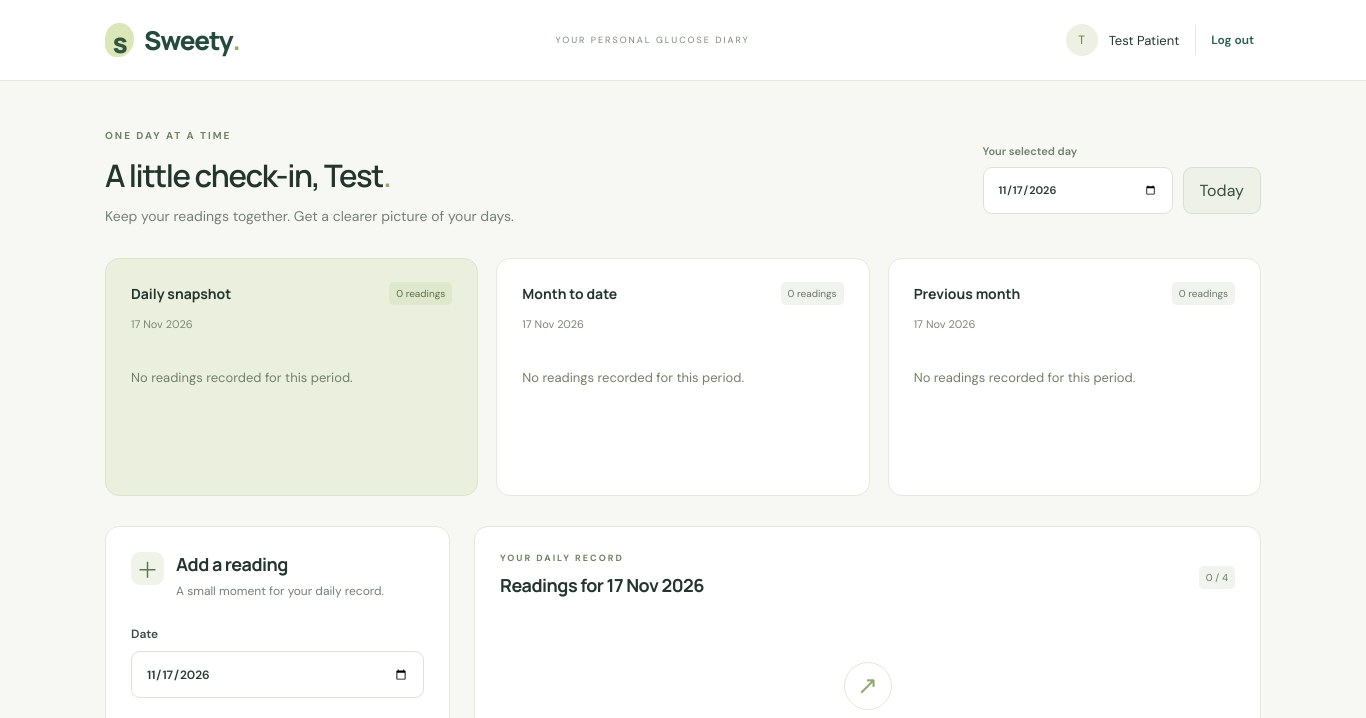
Test: report date and add-form date synchronize in both directions
Expected: the heading "A little check-in, Test." is shown, [105,154,390,196]
Expected: the text "Loading your readings…" is not shown
In the date field named "Selected report date": (1078, 190) [983,167,1173,214], type "2026-11-15"
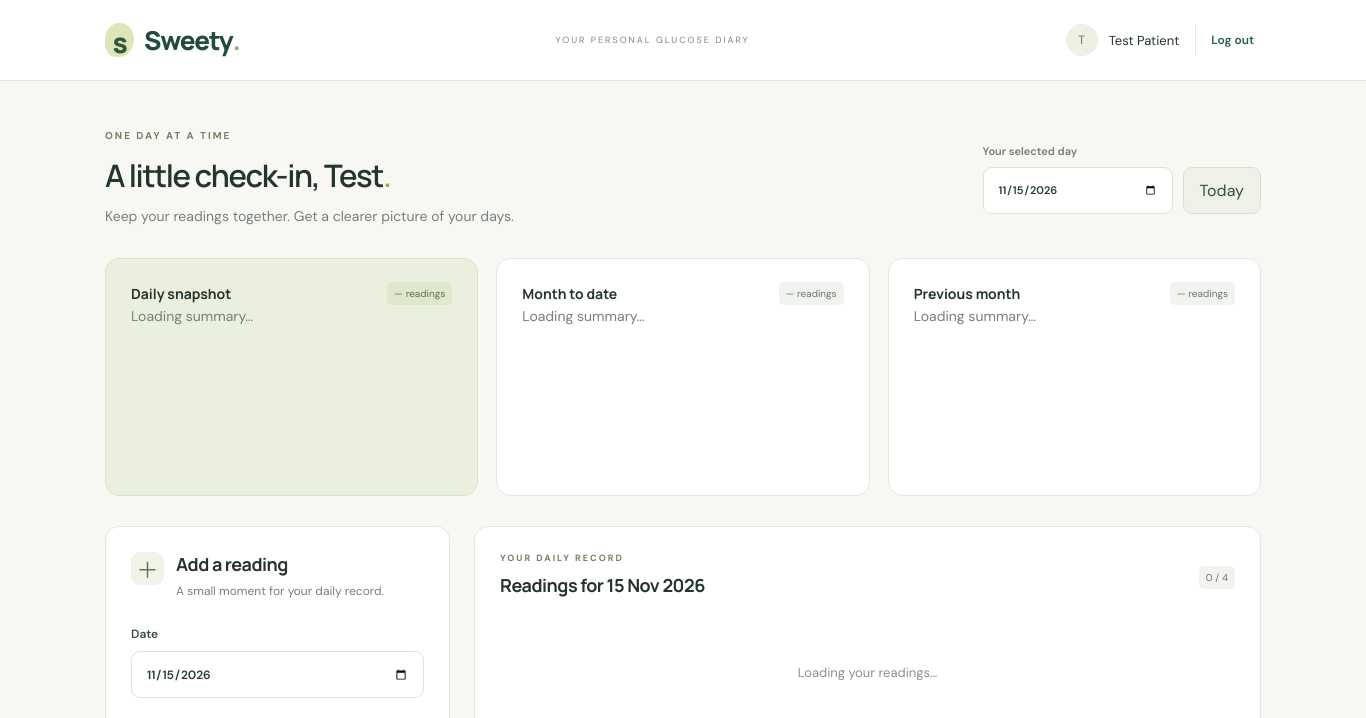
Result: the date field labelled "Date" holds "2026-11-15"
Result: the heading "Readings for 15 Nov 2026" is shown at [500,573,705,597]
In the date field labelled "Date": (278, 675) [131,651,424,698], type "2026-11-14"
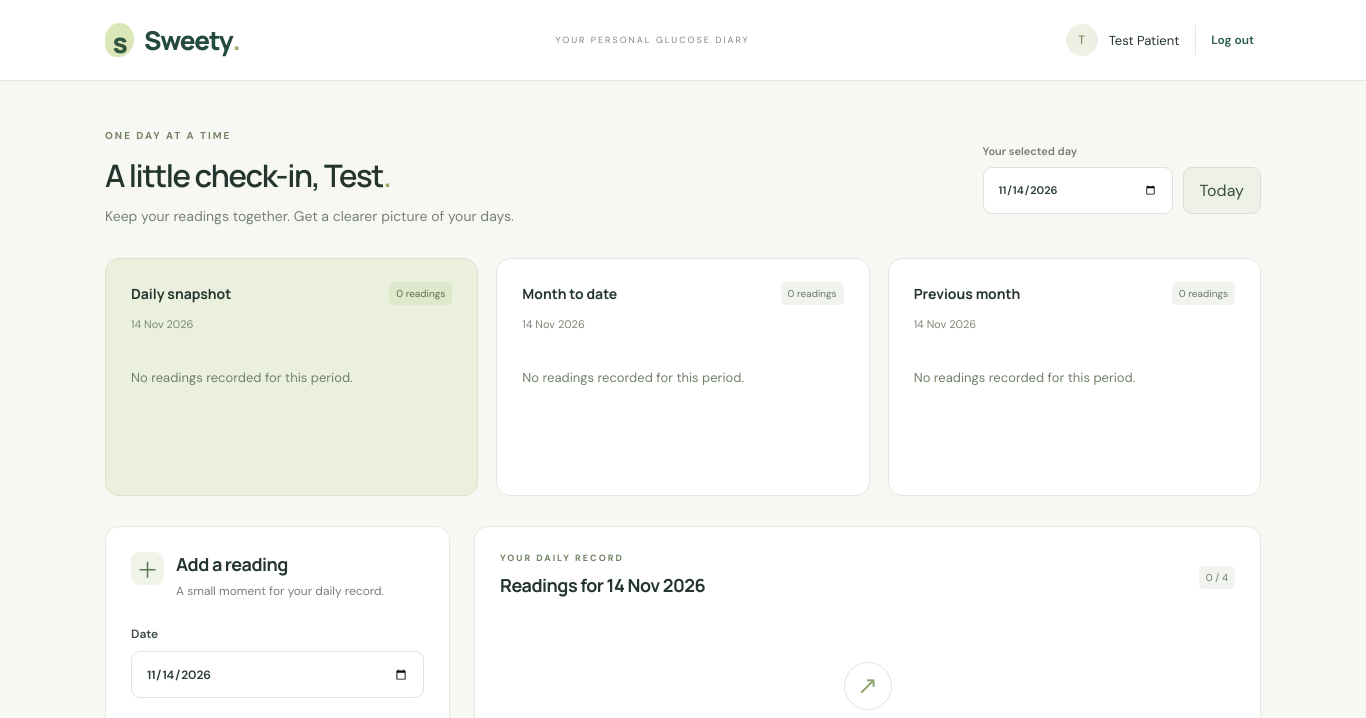
Result: the date field named "Selected report date" holds "2026-11-14" at [983,167,1173,214]
